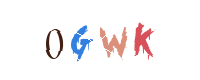0: (14, 0, 94, 80)
G: (40, 0, 120, 80)
K: (84, 0, 164, 80)
W: (59, 0, 139, 80)
